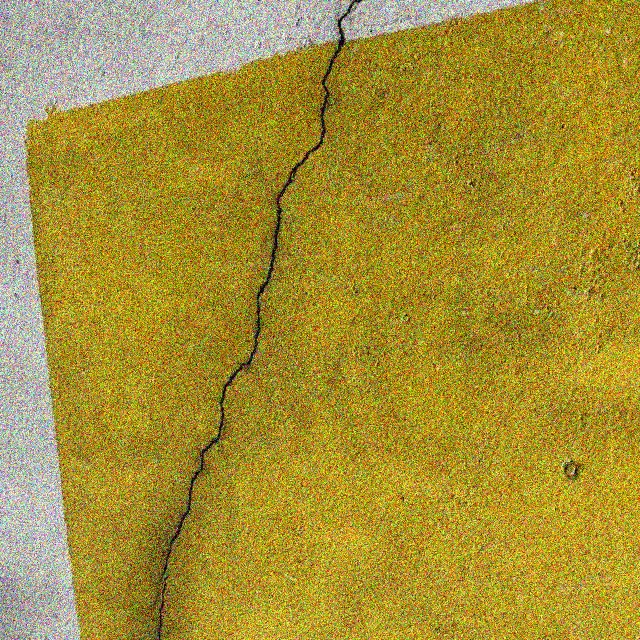SurfaceCrack: (125, 1, 382, 640)
